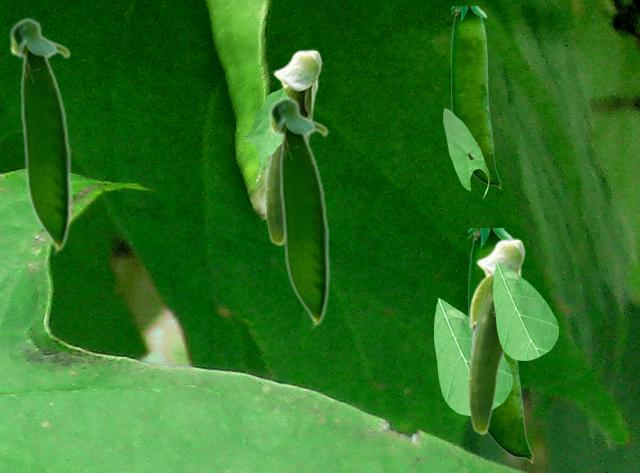pea: (8, 16, 71, 255), (468, 228, 532, 462), (267, 95, 329, 329), (264, 49, 322, 245), (467, 238, 525, 434), (451, 6, 500, 188)
